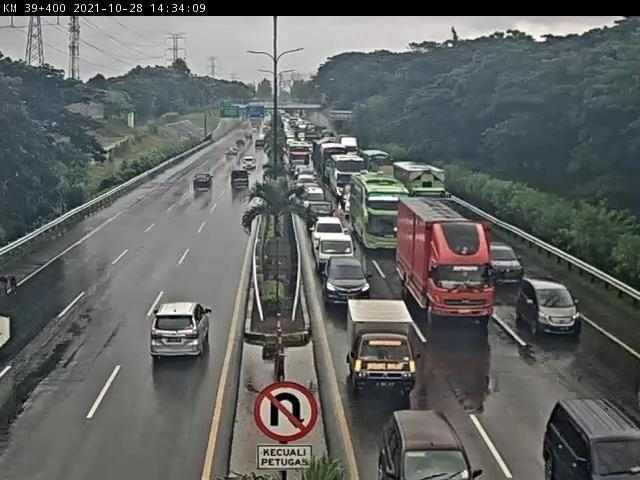bus: (351, 174, 412, 253), (331, 158, 367, 201), (287, 143, 313, 173)
car: (540, 396, 638, 480), (374, 412, 482, 480), (343, 298, 416, 389), (514, 273, 578, 333), (151, 304, 212, 359), (322, 256, 373, 304), (483, 239, 521, 287), (316, 236, 359, 275), (310, 221, 349, 250), (305, 203, 338, 229), (229, 170, 251, 192), (195, 174, 216, 193), (305, 190, 330, 205), (344, 191, 359, 216), (298, 176, 318, 194), (294, 166, 317, 181)
truck: (392, 198, 488, 317), (393, 163, 454, 220), (320, 147, 346, 180)
